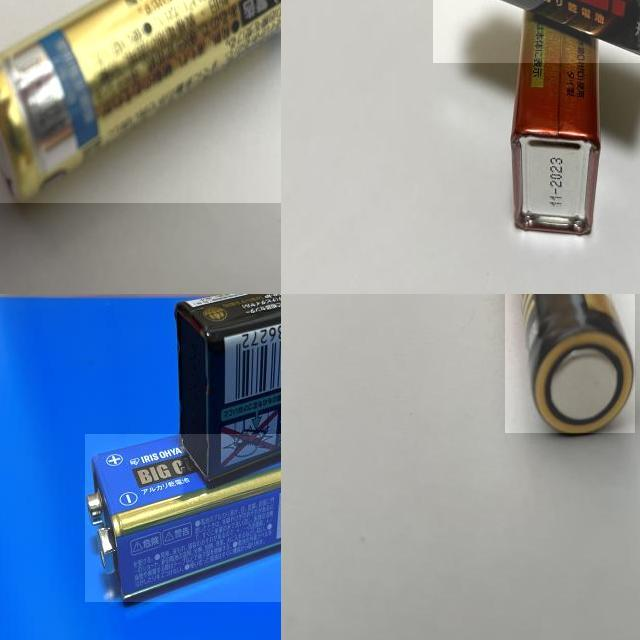9V: (85, 434, 281, 602), (511, 5, 601, 235), (176, 294, 281, 483)
